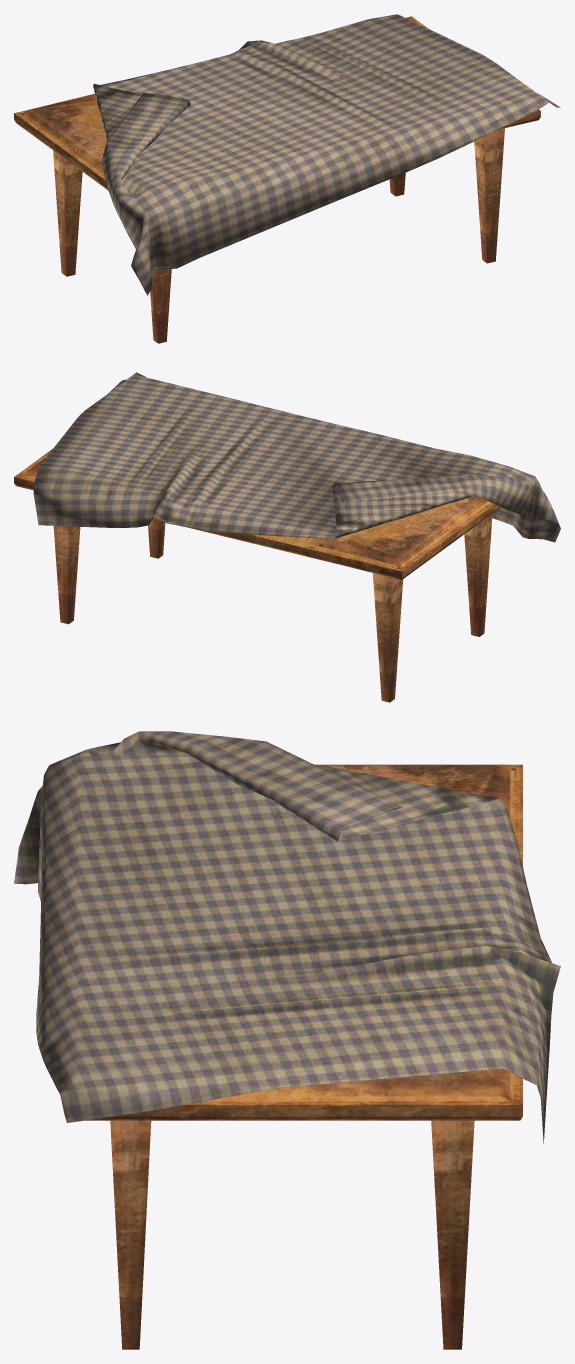
Rendered from dining_table.glb.
3 views of the same model, one above another, from view 1: azimuth 30°, elevation 25°; view 2: azimuth 150°, elevation 25°; view 3: azimuth 270°, elevation 25° (orthographic). The views are drawn at different scales.
Visible parts, largest first — view 1: dining_table; view 2: dining_table; view 3: dining_table.
Boxes of the visible parts, <box> form: dining_table: <box>14,14,560,343</box>; dining_table: <box>14,372,560,702</box>; dining_table: <box>14,731,560,1349</box>.
Size of the model in its own units: 2.26 by 0.877 by 1.39.
Materials: 1 (1 with a texture image).
